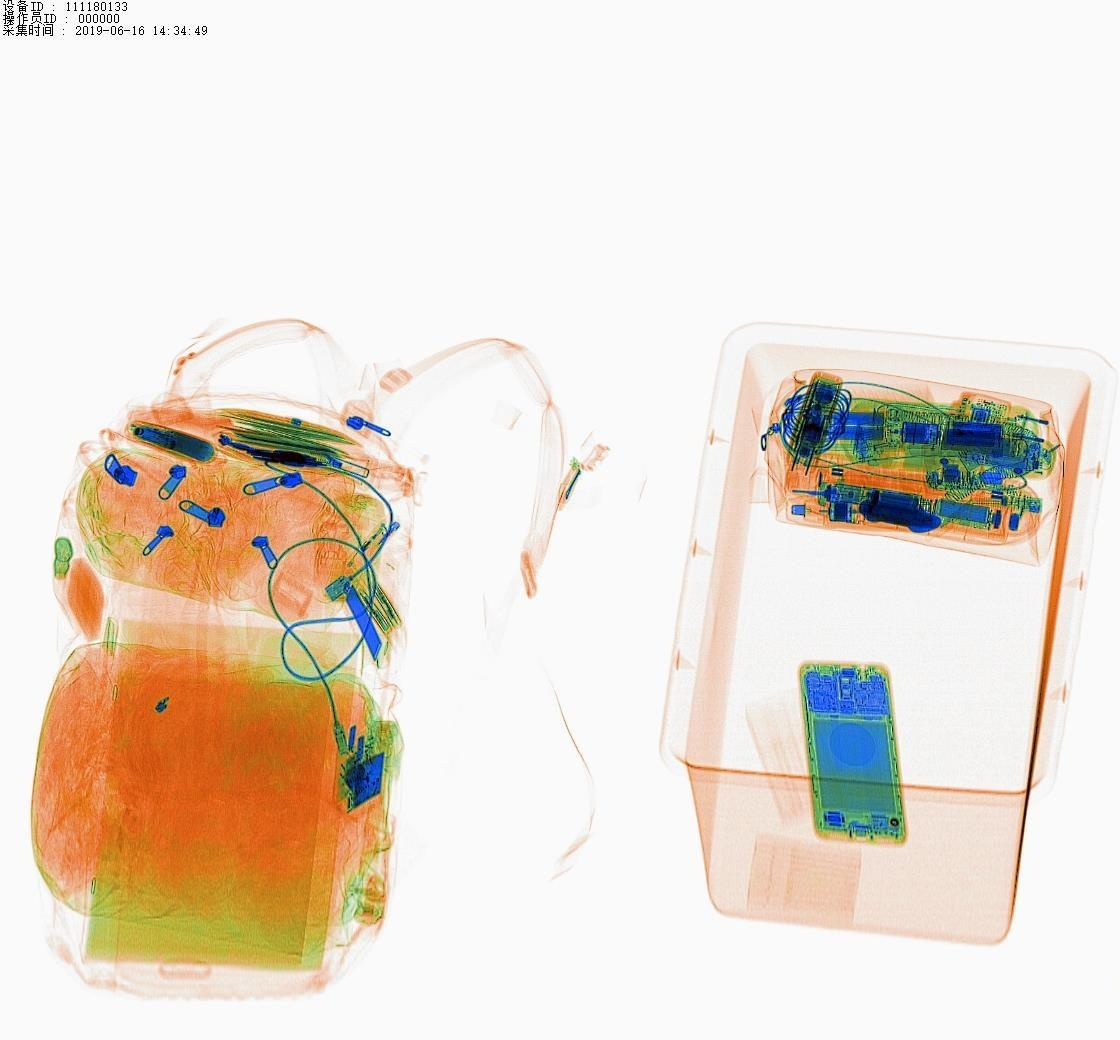NonmetallicFire: (346, 509, 406, 582)
